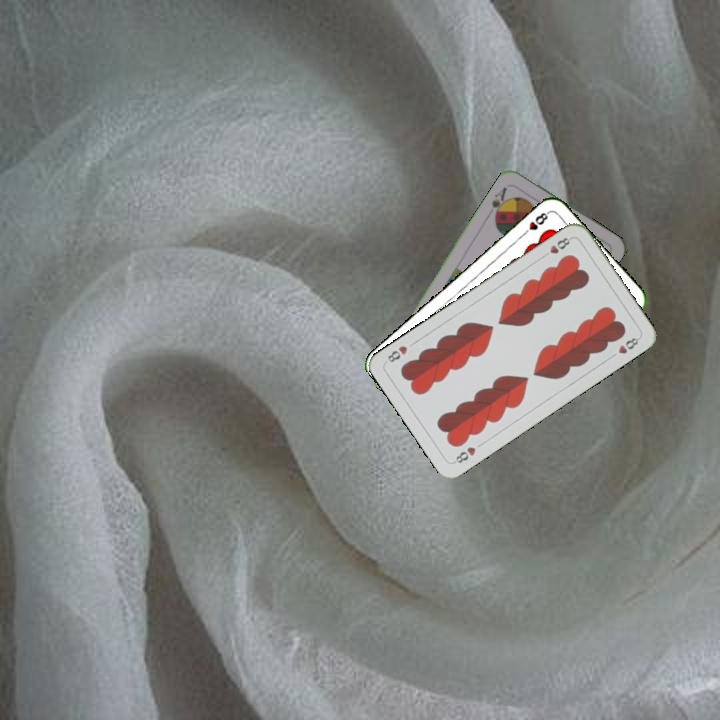H8: (518, 207, 552, 239), (538, 233, 574, 261), (449, 443, 478, 466)
SA: (485, 183, 511, 220)
